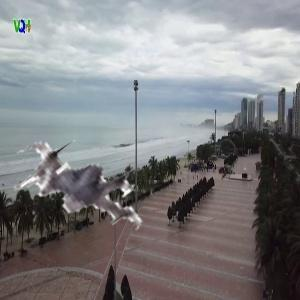drone: (3, 120, 157, 274)
